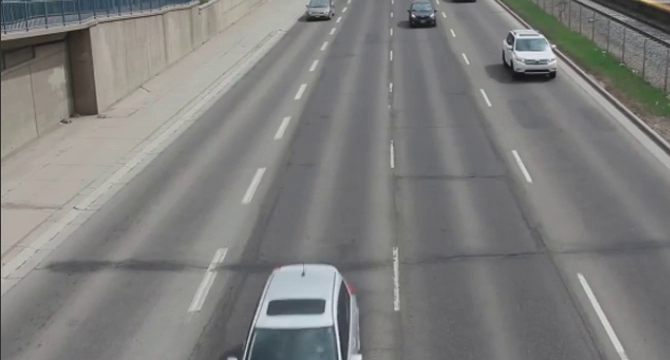car: (230, 263, 366, 360), (500, 28, 568, 79), (402, 2, 441, 28), (299, 1, 339, 19)
